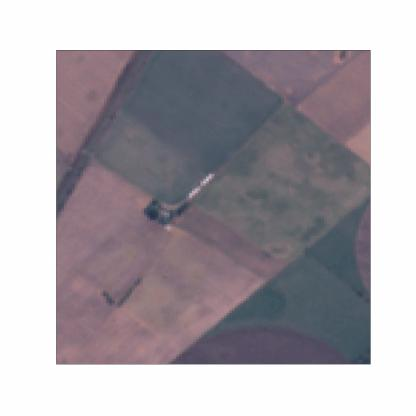silobolsa: (188, 172, 214, 198)
